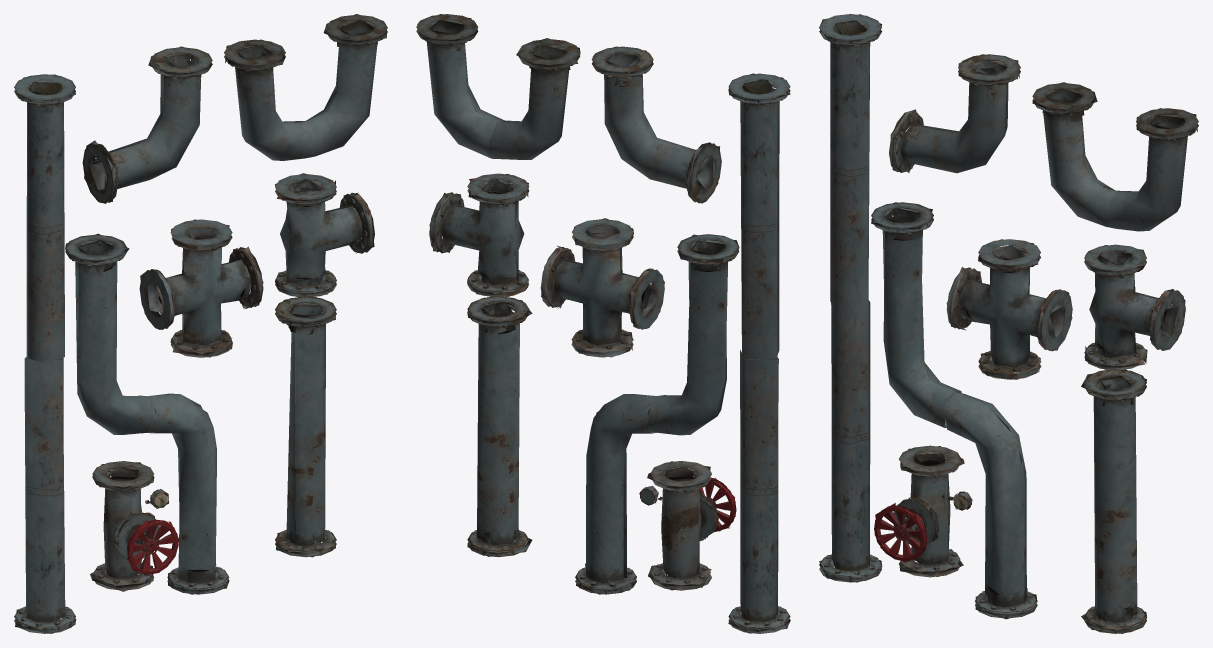
File: ph_modular_industrial_pipes_01.glb
3 renders of one model, left to right at view 1: azimuth 30°, elevation 25°; view 2: azimuth 150°, elevation 25°; view 3: azimuth 330°, elevation 25°, orthographic.
Parts seen in each view (by area): view 1: modular_industrial_pipes_01_pipe01; view 2: modular_industrial_pipes_01_pipe01; view 3: modular_industrial_pipes_01_pipe01.
Part boxes in pixels (x1,y1,x2,y2): modular_industrial_pipes_01_pipe01: (14,14,387,633); modular_industrial_pipes_01_pipe01: (416,14,790,633); modular_industrial_pipes_01_pipe01: (819,14,1198,633).
Bounding box in the file's own units: 1.42 × 1.95 × 0.3083.
2 materials, 2 textured.
